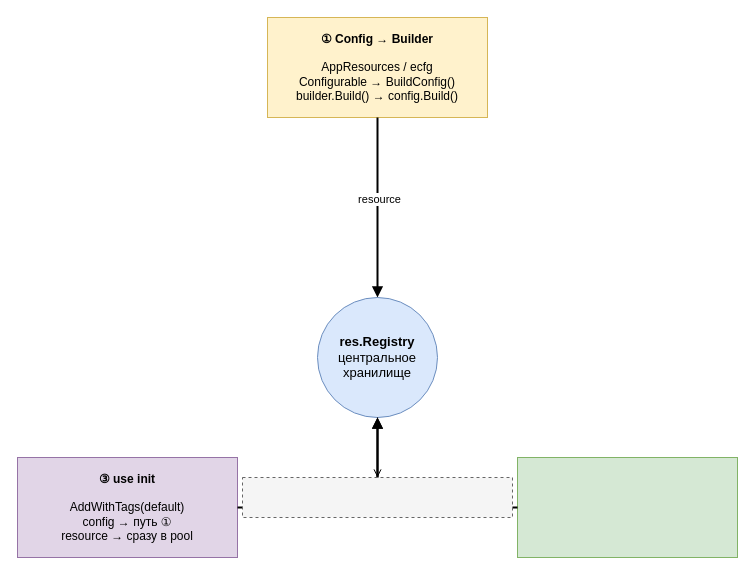
Some shapes in this 755 by 575 pixel diagram are drawn without their labels. The shapes that lost their labels are listed below. From the top down, each one's box as (x1, y1, x2, y2) in pixels, then its label:
(242, 476, 512, 518): obs.Transform → sdi.Resolve → runner
(516, 456, 738, 558): ② Resourcer generic Builder-config [T] T.BuildResource() skip if not Resourcer
